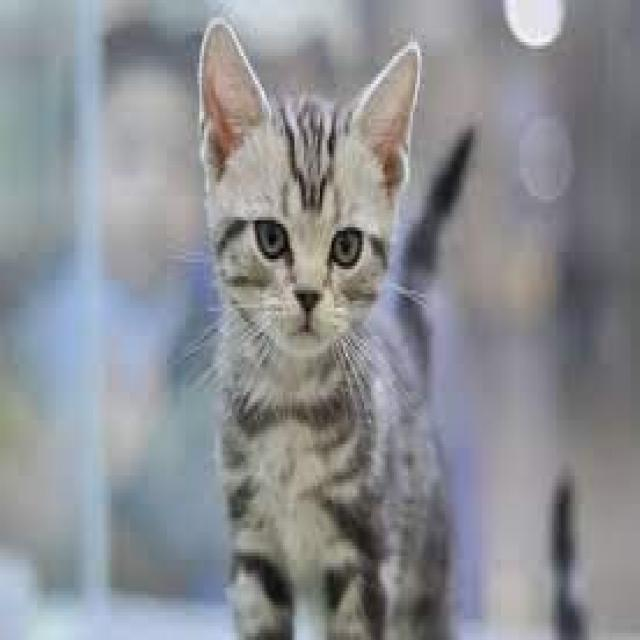cat-face: (188, 46, 471, 396)
